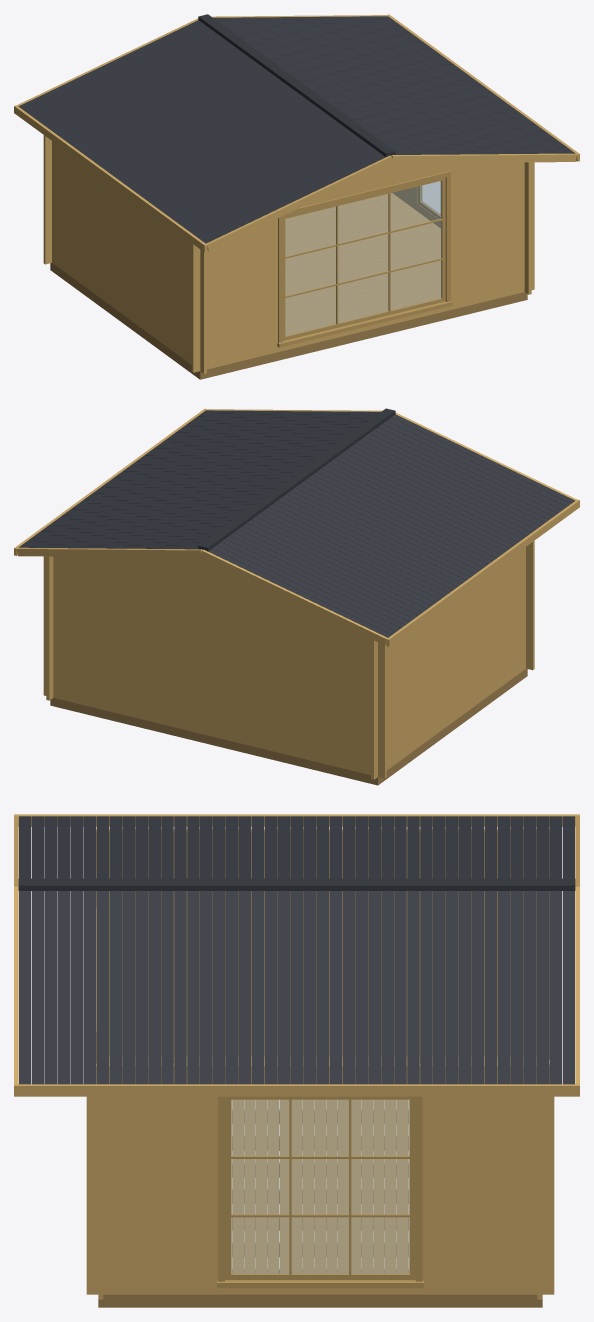
Rendered from март_5_4_44_мм_панорамное_остекление.glb.
3 renders of one model, top to bottom at view 1: azimuth 30°, elevation 25°; view 2: azimuth 150°, elevation 25°; view 3: azimuth 270°, elevation 25°, orthographic. The views are drawn at different scales.
Visible parts, largest first — view 1: roof, walls, object 6, floor, Март 5×4 (44 мм, панорамное остекление), object 14, object 13, object 5, object 12, object 11, object 3, object 4 (+1 smaller); view 2: roof, walls, Март 5×4 (44 мм, панорамное остекление); view 3: roof, walls, floor, object 19, Март 5×4 (44 мм, панорамное остекление), object 27, object 25, object 18, object 24, object 15, object 16, object 17 (+2 smaller).
Part boxes in pixels (x1=…): roof: x1=14, y1=14, x2=579, y2=252; walls: x1=43, y1=135, x2=534, y2=373; object 6: x1=285, y1=181, x2=441, y2=335; floor: x1=285, y1=193, x2=440, y2=335; Март 5×4 (44 мм, панорамное остекление): x1=50, y1=263, x2=527, y2=379; object 14: x1=277, y1=301, x2=452, y2=347; object 13: x1=283, y1=171, x2=450, y2=216; object 5: x1=285, y1=298, x2=442, y2=340; object 12: x1=446, y1=171, x2=450, y2=301; object 11: x1=278, y1=216, x2=282, y2=342; object 3: x1=441, y1=177, x2=445, y2=302; object 4: x1=283, y1=178, x2=445, y2=218; roof: x1=14, y1=408, x2=579, y2=646; walls: x1=43, y1=541, x2=534, y2=779; Март 5×4 (44 мм, панорамное остекление): x1=50, y1=668, x2=527, y2=785; roof: x1=14, y1=814, x2=579, y2=1096; walls: x1=86, y1=828, x2=554, y2=1299; floor: x1=109, y1=1056, x2=536, y2=1273; object 19: x1=231, y1=1100, x2=409, y2=1273; Март 5×4 (44 мм, панорамное остекление): x1=98, y1=1060, x2=542, y2=1307; object 27: x1=217, y1=1280, x2=423, y2=1288; object 25: x1=415, y1=1096, x2=422, y2=1281; object 18: x1=225, y1=1273, x2=414, y2=1280; object 24: x1=218, y1=1096, x2=224, y2=1281; object 15: x1=225, y1=1096, x2=230, y2=1280; object 16: x1=410, y1=1096, x2=415, y2=1280; object 17: x1=225, y1=1096, x2=415, y2=1099.
Bounding box in the file's own units: 5.5 × 2.89 × 4.84.
